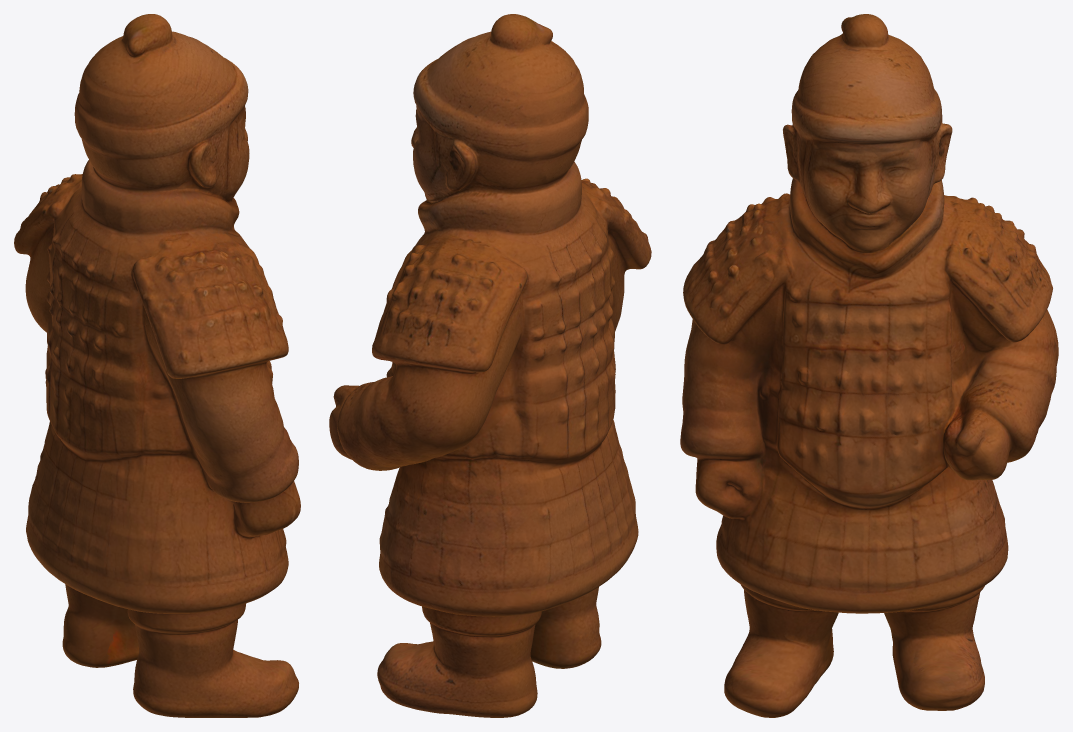
The picture shows the model from 3 angles, left to right: view 1: azimuth 30°, elevation 25°; view 2: azimuth 150°, elevation 25°; view 3: azimuth 270°, elevation 25°; orthographic projection.
Visible parts, largest first — view 1: tripo_node_256ad3fb-c192-4ef8-a9e7-1f09f8524577; view 2: tripo_node_256ad3fb-c192-4ef8-a9e7-1f09f8524577; view 3: tripo_node_256ad3fb-c192-4ef8-a9e7-1f09f8524577.
Boxes of the visible parts, left/top/right/bottom form: tripo_node_256ad3fb-c192-4ef8-a9e7-1f09f8524577: left=14, top=14, right=300, bottom=717; tripo_node_256ad3fb-c192-4ef8-a9e7-1f09f8524577: left=329, top=14, right=651, bottom=717; tripo_node_256ad3fb-c192-4ef8-a9e7-1f09f8524577: left=680, top=14, right=1058, bottom=717.
Bounding box in the file's own units: 0.3331 × 0.9481 × 0.4926.
Materials: 1 (1 with a texture image).
